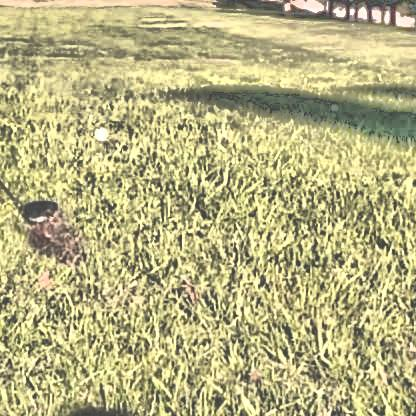golfball: (92, 124, 106, 139)
